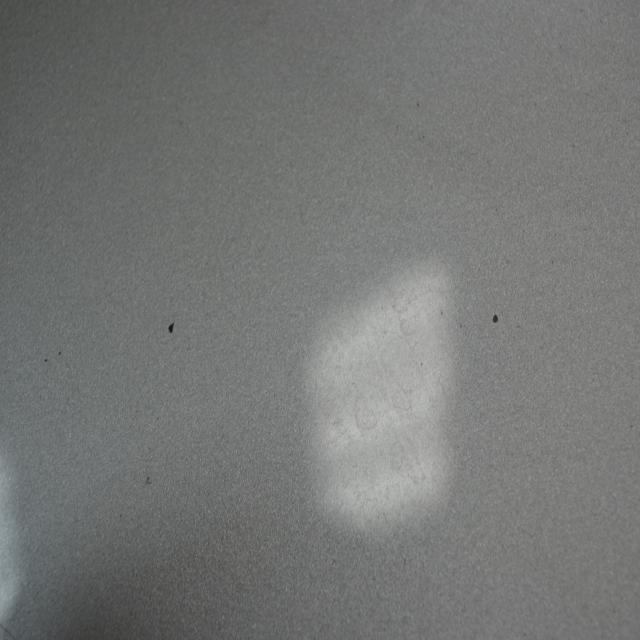dirt: (143, 469, 153, 488), (167, 317, 176, 334), (492, 310, 500, 325), (55, 344, 62, 356), (42, 354, 48, 366)
water marks: (307, 349, 381, 450), (373, 292, 436, 390), (340, 452, 400, 533), (374, 413, 427, 498)
